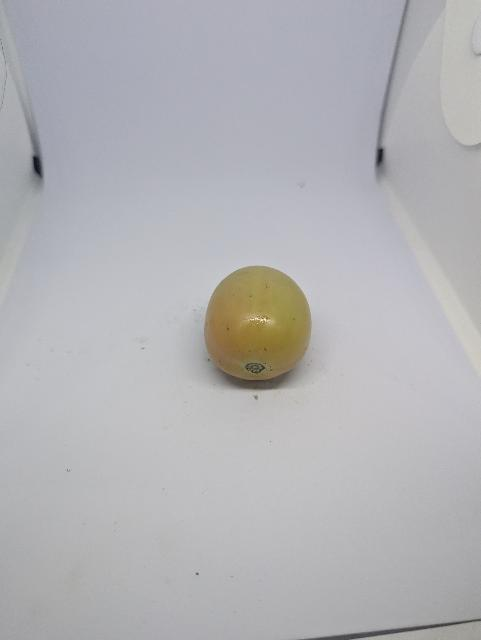turning: (205, 266, 312, 380)
